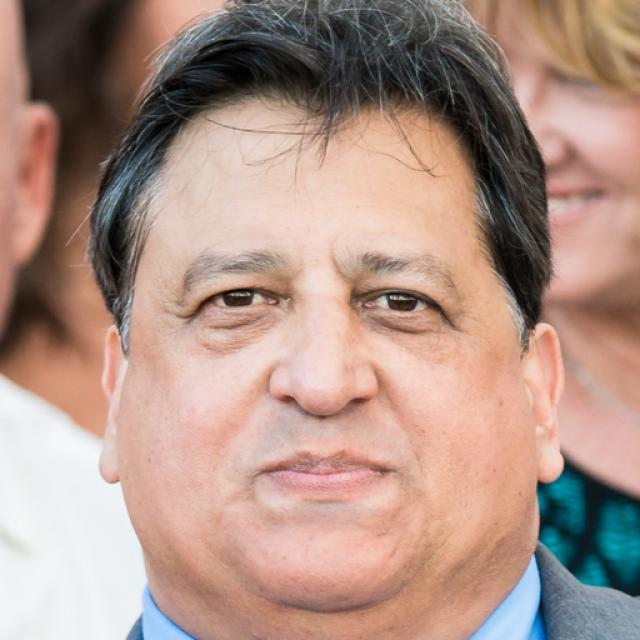disgust: (122, 95, 530, 610)
